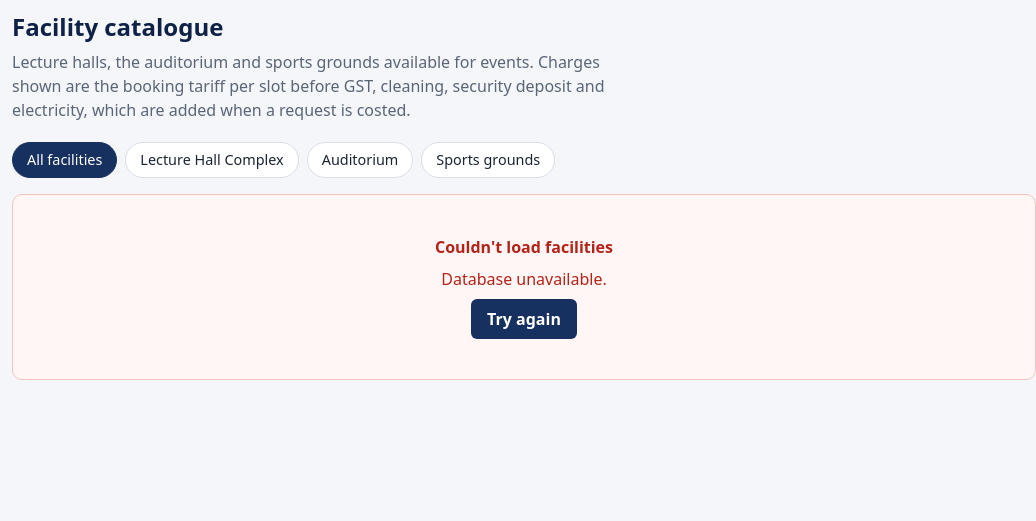
Test: FacilityCatalogue › shows the backend error message and retries
Expected: the message shows "Database unavailable.", [441,268,607,290]
Click the button "Try again": (524, 319) [471,299,577,339]
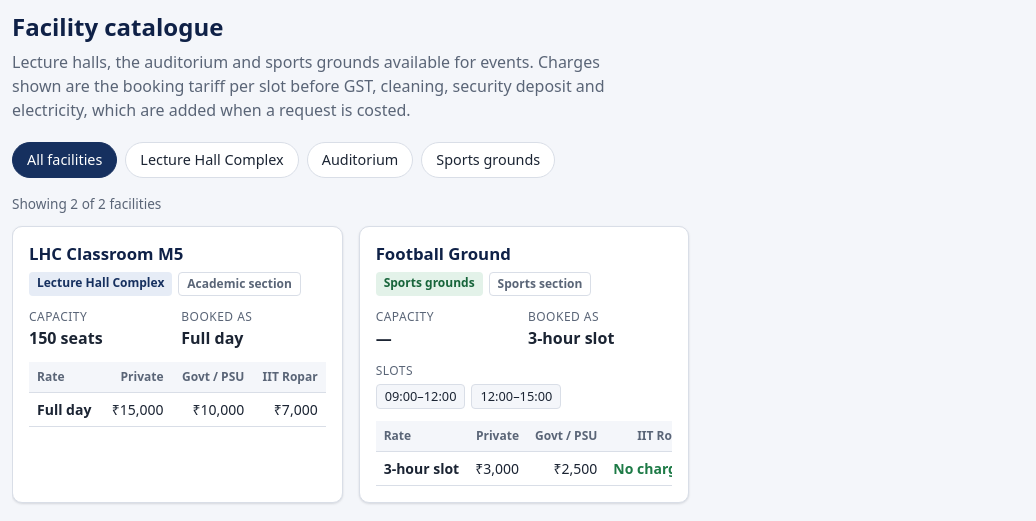
Expected: the number of elements with test id "facility-card" is 2, [12,226,343,503]; [359,226,689,503]
